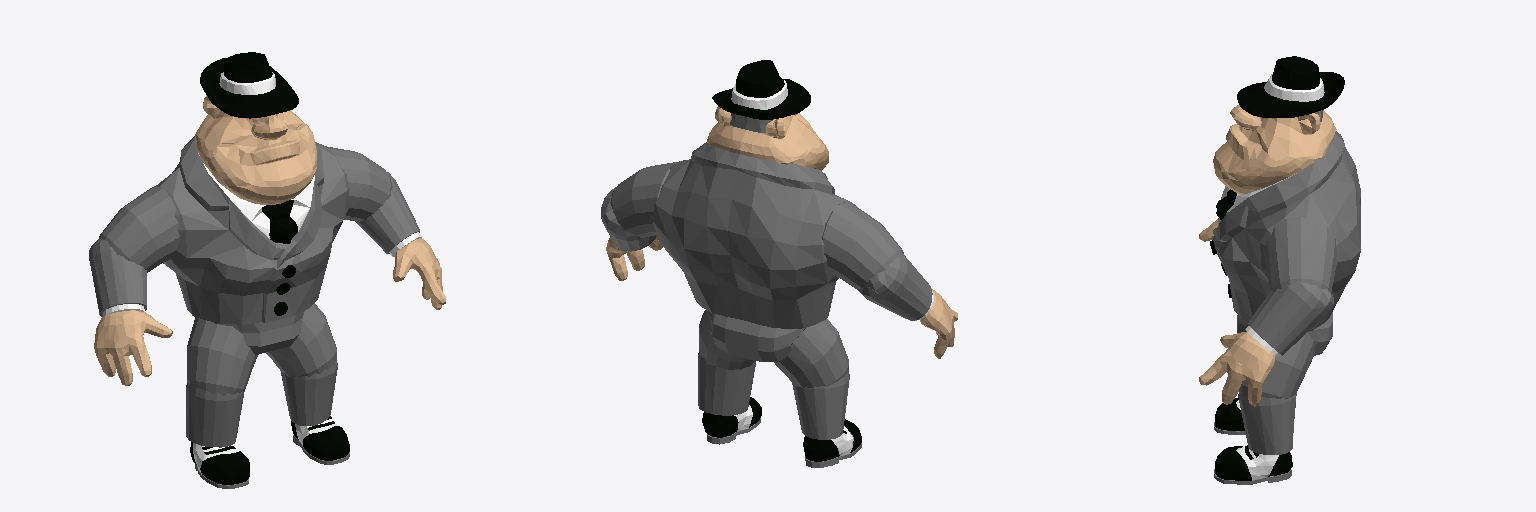
3 renders of one model, left to right at view 1: azimuth 30°, elevation 25°; view 2: azimuth 150°, elevation 25°; view 3: azimuth 270°, elevation 25°, orthographic.
Visible parts, largest first — view 1: default coat, default facial, default uparmr, default uplegr, default hat, default handr, default lowlegr, default lowarmr, default uplegl, default uparml, default lowlegl, default lowarml (+7 smaller); view 2: default coat, default uparmr, default facial, default uplegr, default hat, default pelvis, default lowarmr, default uparml, default lowlegr, default lowlegl, default handr, default uplegl (+5 smaller); view 3: default coat, default facial, default uparml, default lowarml, default hat, default handl, default lowlegl, default uplegl, default shoe1l, default band, default shoe1r, default pelvis (+1 smaller).
Part boxes in pixels (bbox=[...]): default coat: bbox=[156, 136, 349, 324]; default facial: bbox=[195, 95, 316, 204]; default uparmr: bbox=[99, 186, 179, 272]; default uplegr: bbox=[187, 317, 258, 395]; default hat: bbox=[200, 52, 298, 118]; default handr: bbox=[94, 310, 172, 385]; default lowlegr: bbox=[186, 382, 244, 447]; default lowarmr: bbox=[89, 238, 146, 316]; default uplegl: bbox=[266, 303, 336, 377]; default uparml: bbox=[326, 146, 392, 221]; default lowlegl: bbox=[281, 359, 337, 425]; default lowarml: bbox=[356, 172, 419, 253]; default coat: bbox=[651, 142, 855, 328]; default uparmr: bbox=[822, 201, 903, 289]; default facial: bbox=[707, 106, 828, 170]; default uplegr: bbox=[774, 319, 848, 387]; default hat: bbox=[712, 60, 810, 119]; default pelvis: bbox=[708, 312, 805, 361]; default lowarmr: bbox=[858, 254, 932, 320]; default uparml: bbox=[610, 161, 680, 237]; default lowlegr: bbox=[792, 371, 849, 439]; default lowlegl: bbox=[698, 351, 755, 415]; default handr: bbox=[920, 288, 957, 358]; default uplegl: bbox=[699, 310, 755, 369]; default coat: bbox=[1213, 131, 1360, 329]; default facial: bbox=[1213, 105, 1336, 194]; default uparml: bbox=[1264, 217, 1337, 291]; default lowarml: bbox=[1247, 281, 1333, 355]; default hat: bbox=[1237, 56, 1344, 117]; default handl: bbox=[1199, 332, 1274, 406]; default lowlegl: bbox=[1238, 393, 1296, 454]; default uplegl: bbox=[1239, 331, 1314, 398]; default shoe1l: bbox=[1215, 446, 1292, 480]; default band: bbox=[1264, 74, 1324, 101]; default shoe1r: bbox=[1215, 398, 1244, 430]; default pelvis: bbox=[1237, 312, 1332, 355].
Size of the model in its own units: 5.42 by 5.89 by 2.22.